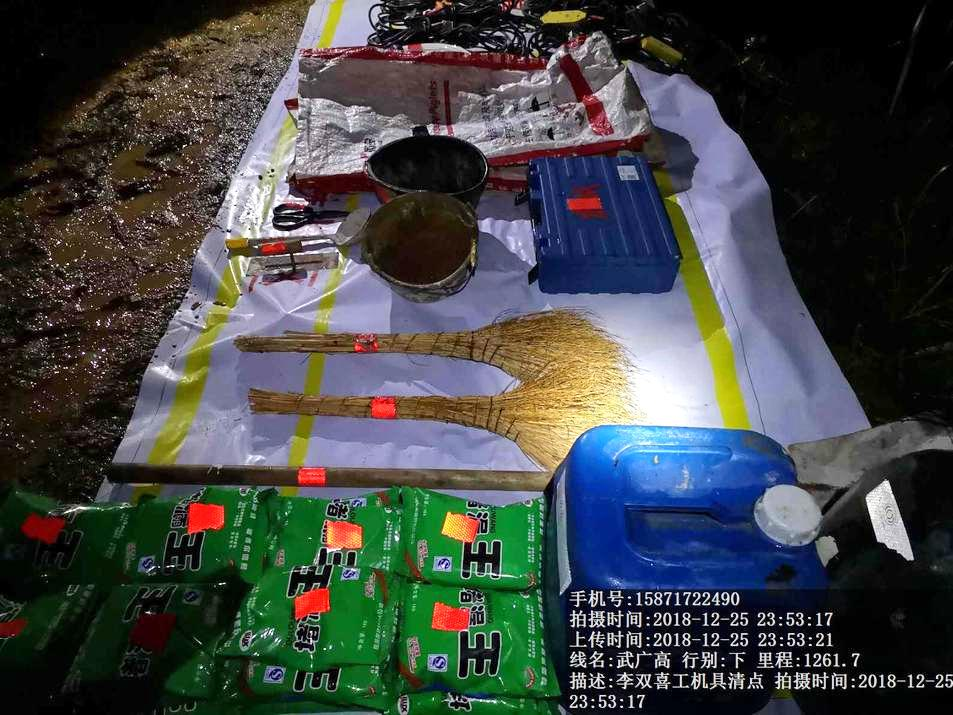BZD: (287, 41, 668, 149)
SB: (216, 314, 648, 382), (228, 380, 649, 428)
SLT: (536, 431, 835, 593)
T: (367, 193, 499, 294), (369, 134, 494, 191)
